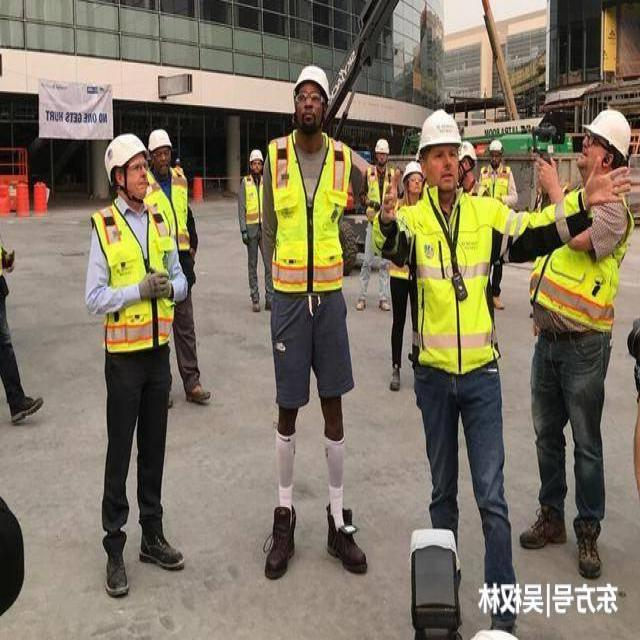Reflective-Jacket: (411, 192, 509, 371), (528, 189, 632, 331), (266, 133, 353, 294), (91, 203, 177, 350), (243, 173, 264, 226)
Safety-Helmet: (583, 106, 633, 157), (416, 106, 462, 152), (102, 130, 148, 174), (291, 60, 331, 101), (146, 124, 174, 152), (458, 139, 477, 161), (374, 136, 391, 154), (489, 137, 504, 153)
